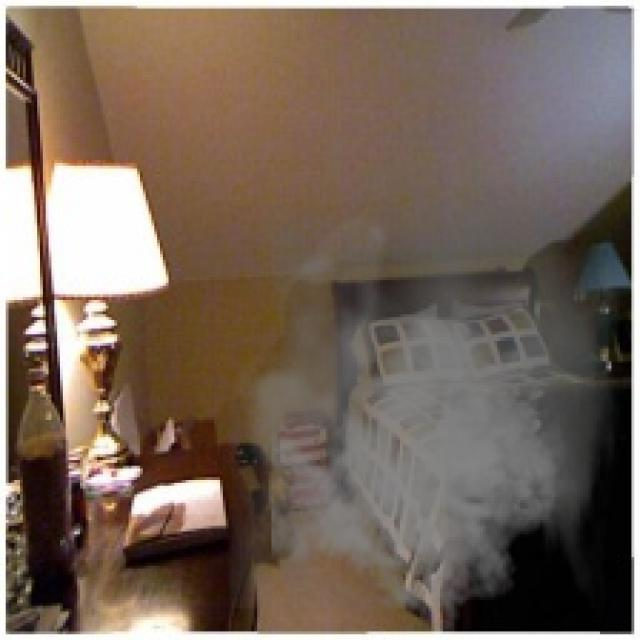Smoke: (228, 206, 620, 623)
